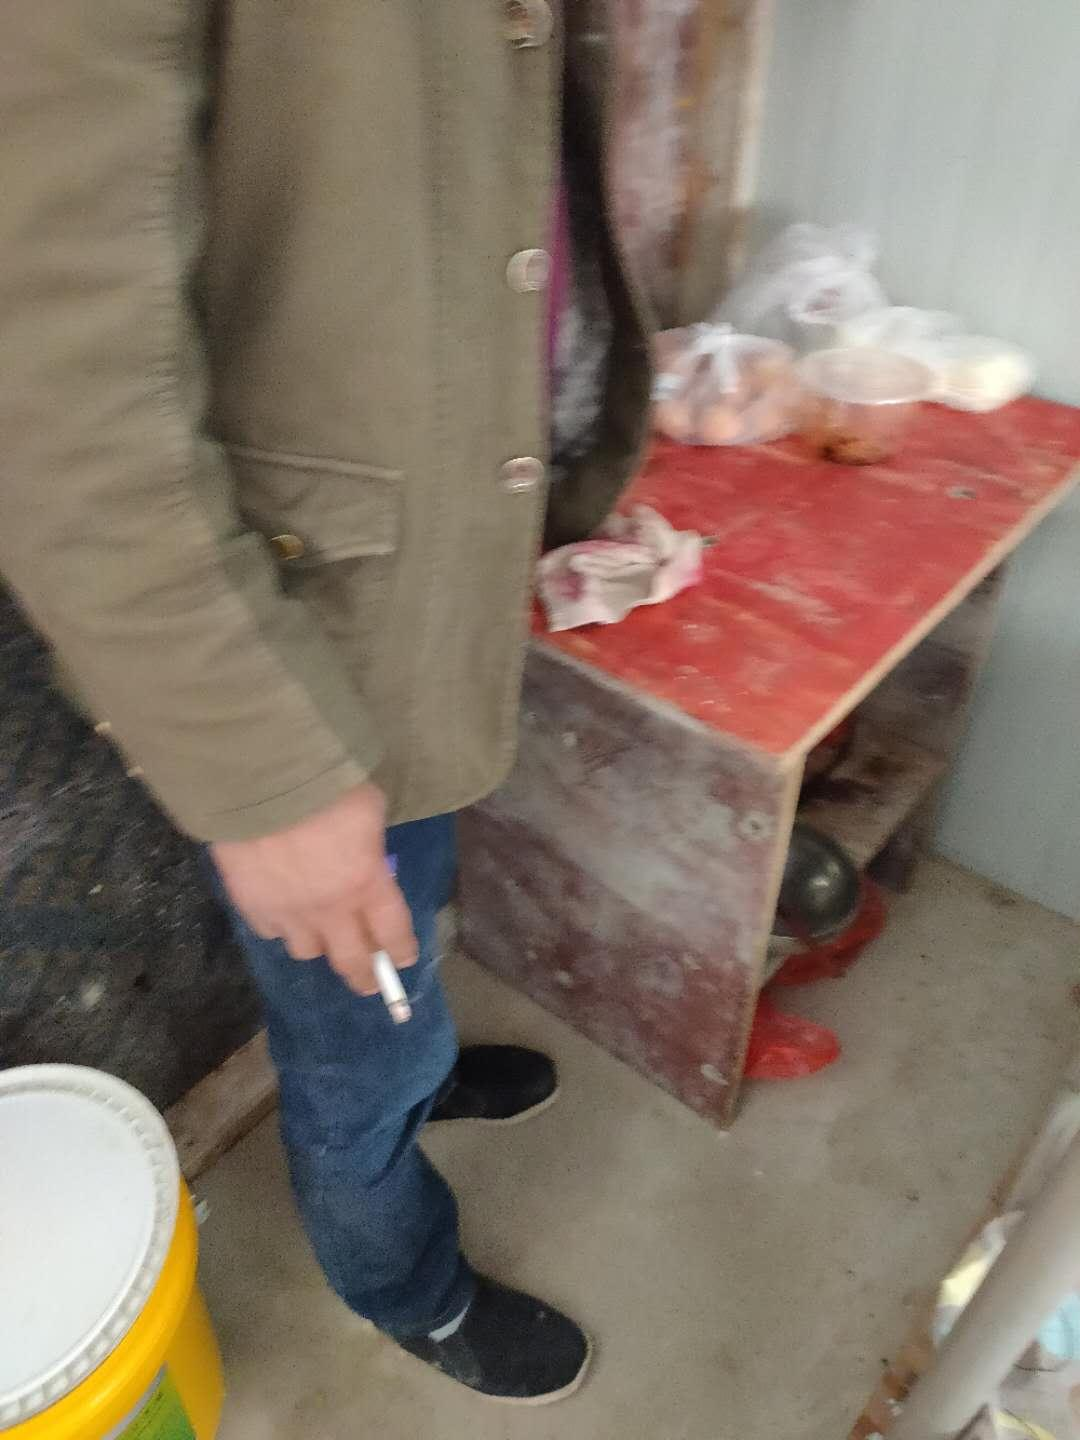Cigarette: (371, 945, 412, 1023)
